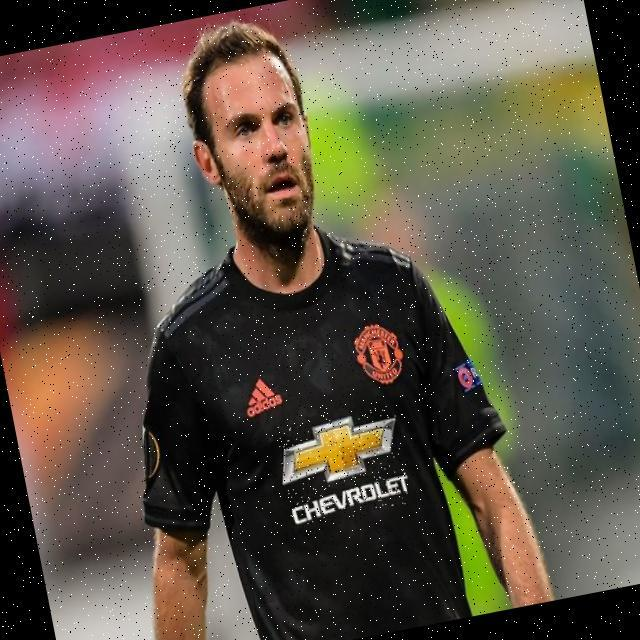Adidas: (234, 369, 288, 422)
Chevrolet: (273, 405, 413, 529)
